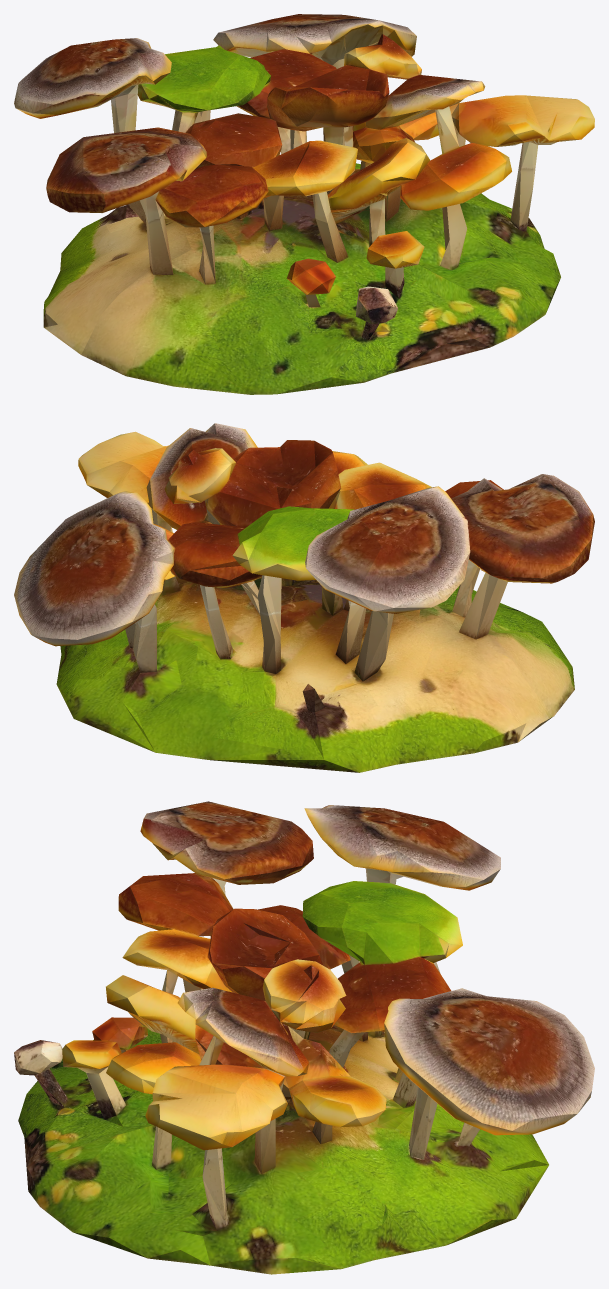
Rendered from mushroom_cluster.glb.
3 views of the same model, one above another, from view 1: azimuth 30°, elevation 25°; view 2: azimuth 150°, elevation 25°; view 3: azimuth 270°, elevation 25° (orthographic). The views are drawn at different scales.
Bounding box in the file's own units: 1.89 × 0.816 × 1.65.
1 material, 1 textured.
